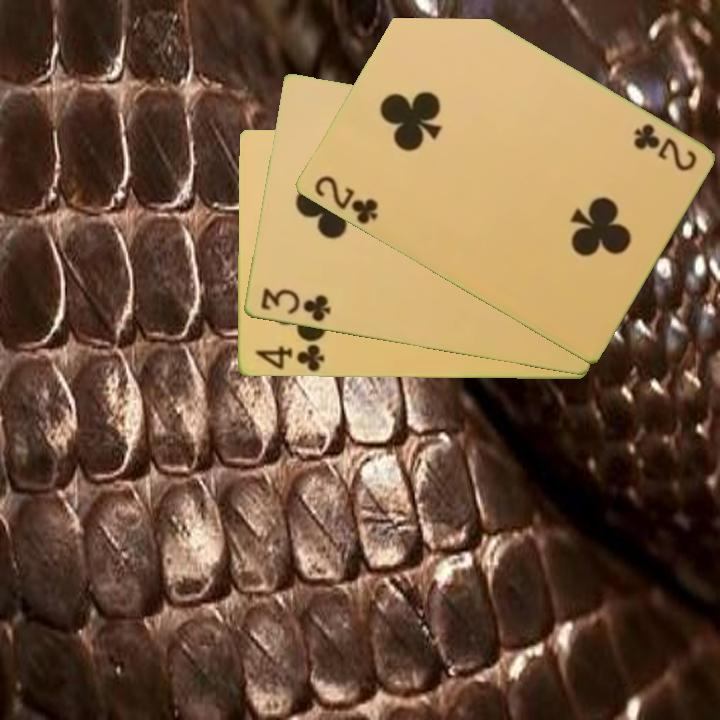2c: (310, 172, 381, 228), (629, 120, 700, 175)
3c: (257, 284, 333, 325)
4c: (252, 338, 327, 374)
